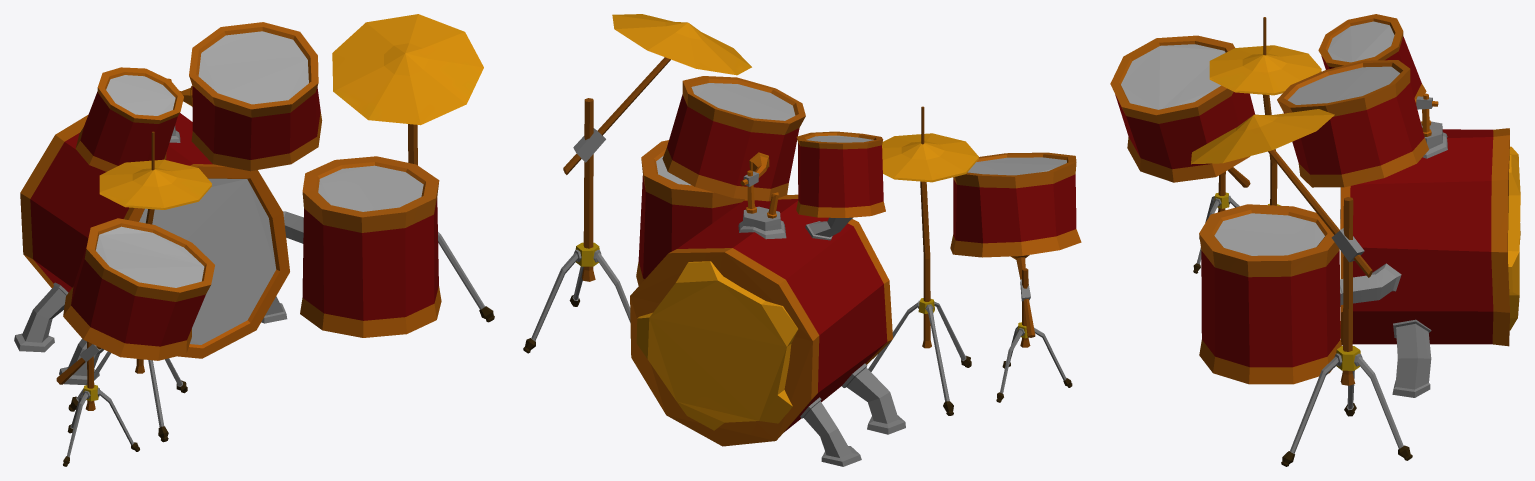
Rendered from Drumms.glb.
3 renders of one model, left to right at view 1: azimuth 30°, elevation 25°; view 2: azimuth 150°, elevation 25°; view 3: azimuth 270°, elevation 25°, orthographic. The views are drawn at different scales.
Visible parts, largest first — view 1: Drumms; view 2: Drumms; view 3: Drumms.
Boxes of the visible parts, bbox=[...] form: Drumms: bbox=[14, 14, 494, 466]; Drumms: bbox=[523, 14, 1081, 466]; Drumms: bbox=[1110, 14, 1520, 466].
Size of what is drawn, in the model's own units: 3.03 by 1.92 by 2.29.
1 material, 1 textured.
